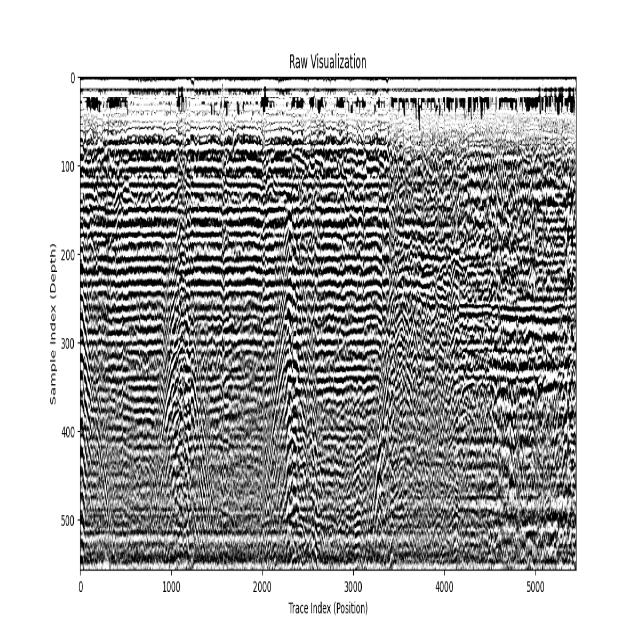anomaly: (251, 214, 331, 566), (140, 206, 220, 554), (361, 188, 424, 566), (79, 235, 115, 565)
